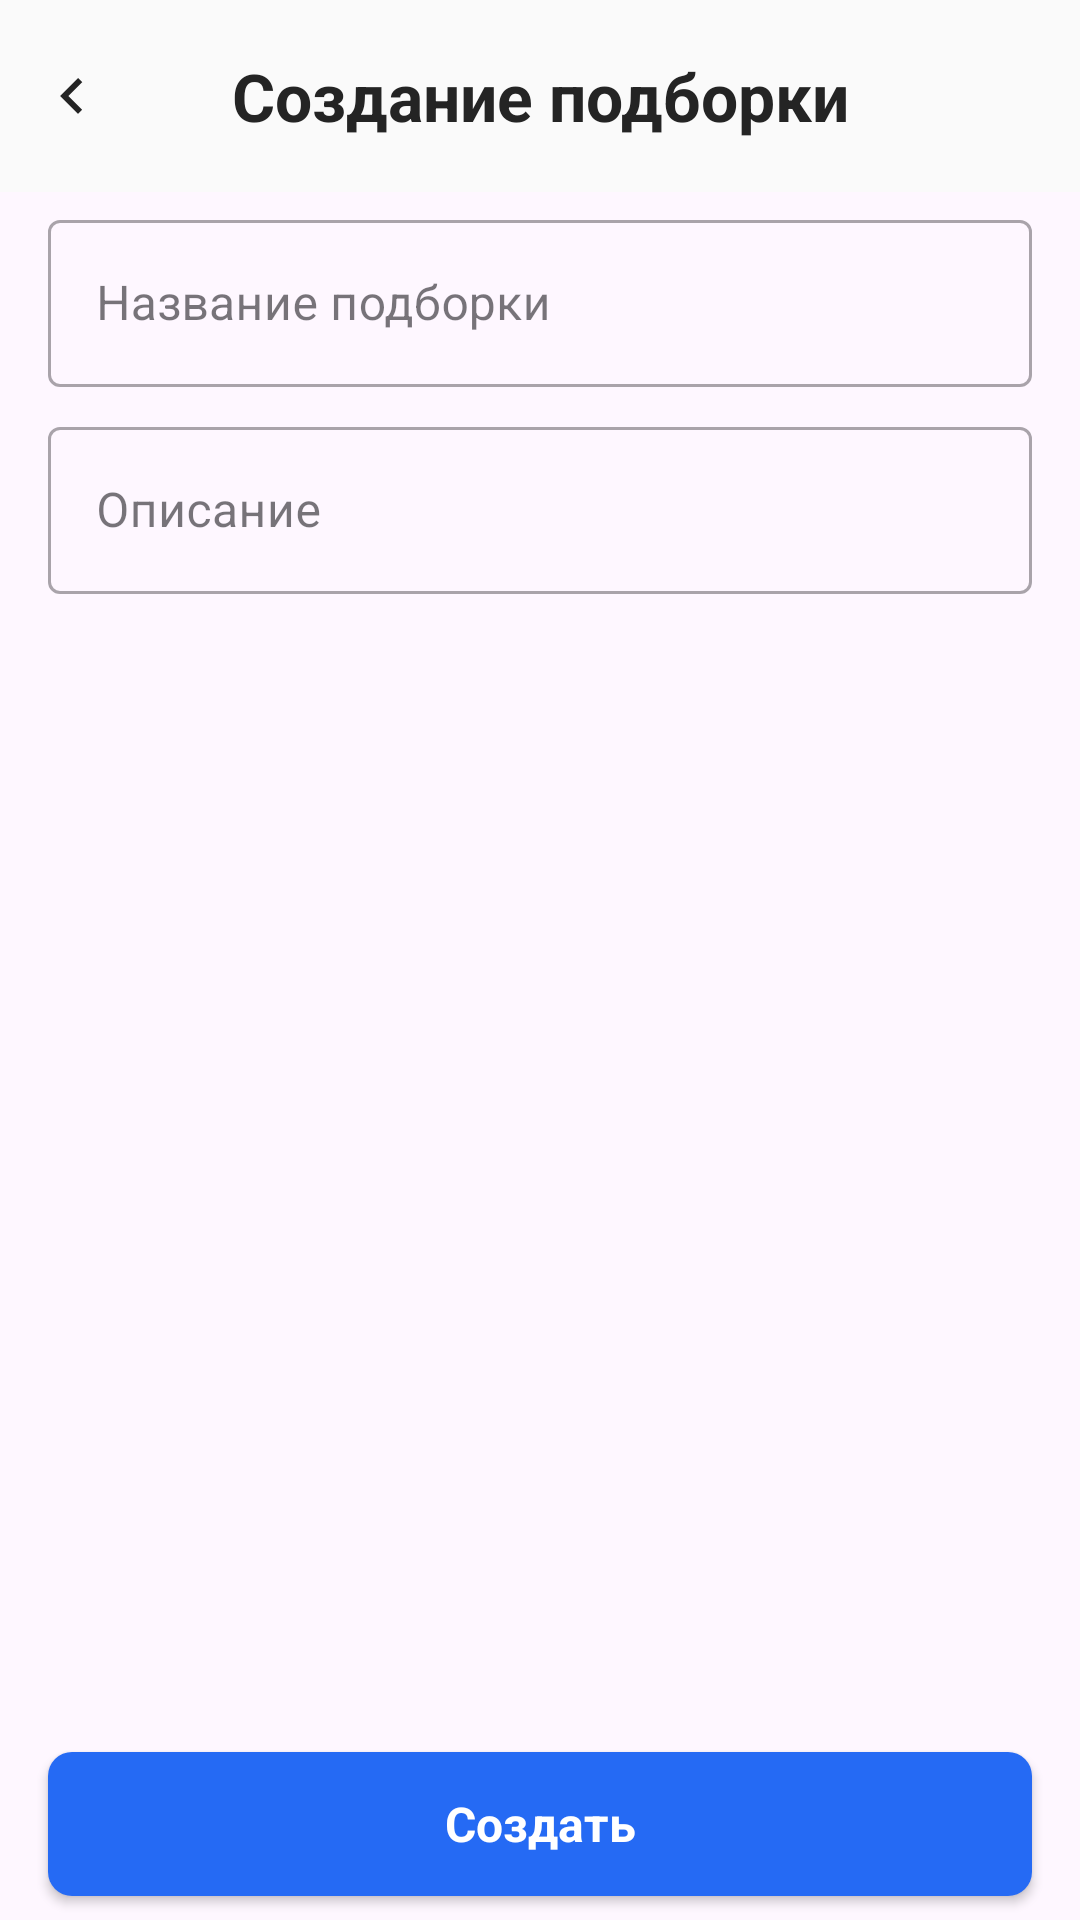

Screen size 1080px x 1920px. Icon name, then its center in pixels as (x=x, y=y):
GO BACK: (x=71, y=96)
